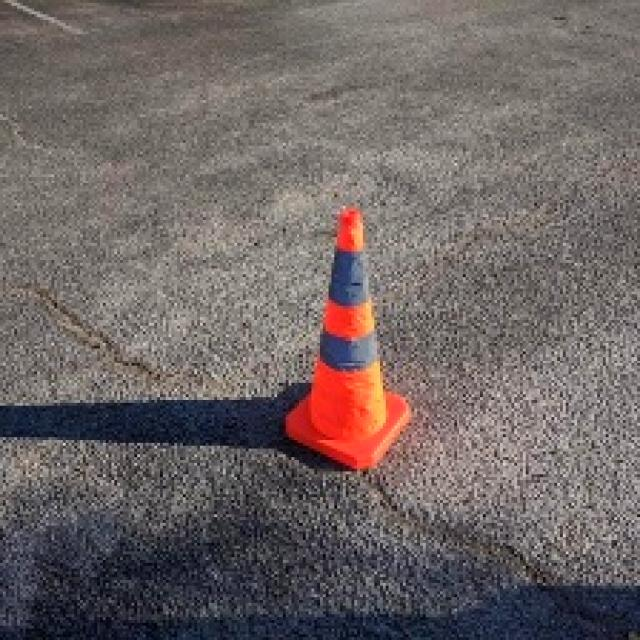cone: (283, 202, 417, 475)
